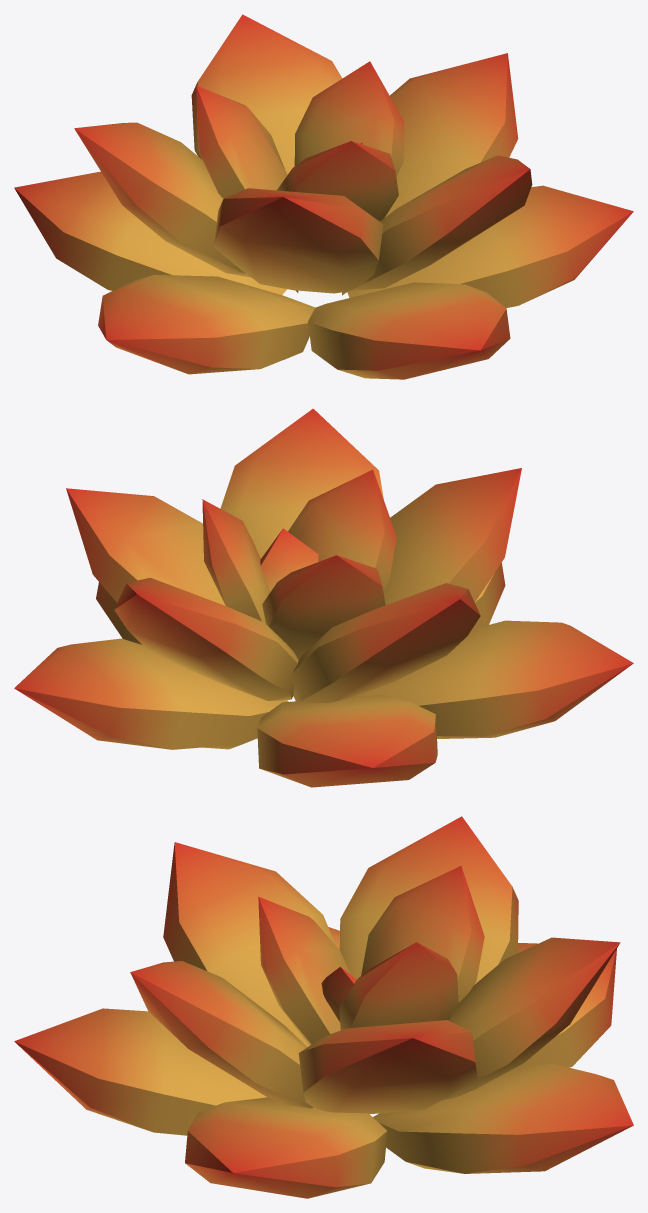
The picture shows the model from 3 angles, top to bottom: view 1: azimuth 30°, elevation 25°; view 2: azimuth 150°, elevation 25°; view 3: azimuth 270°, elevation 25°; orthographic projection. The views are drawn at different scales.
Visible parts, largest first — view 1: LOD 1_16967760880170184947_4f521bcaeda9b9647b799715f43ad4b9; view 2: LOD 1_16967760880170184947_4f521bcaeda9b9647b799715f43ad4b9; view 3: LOD 1_16967760880170184947_4f521bcaeda9b9647b799715f43ad4b9.
Boxes of the visible parts, x1,y1,x2,y2 form: LOD 1_16967760880170184947_4f521bcaeda9b9647b799715f43ad4b9: (14, 14, 633, 379); LOD 1_16967760880170184947_4f521bcaeda9b9647b799715f43ad4b9: (14, 408, 633, 787); LOD 1_16967760880170184947_4f521bcaeda9b9647b799715f43ad4b9: (14, 816, 633, 1198).
Size of the model in its own units: 0.8955 by 0.3443 by 0.8664.
